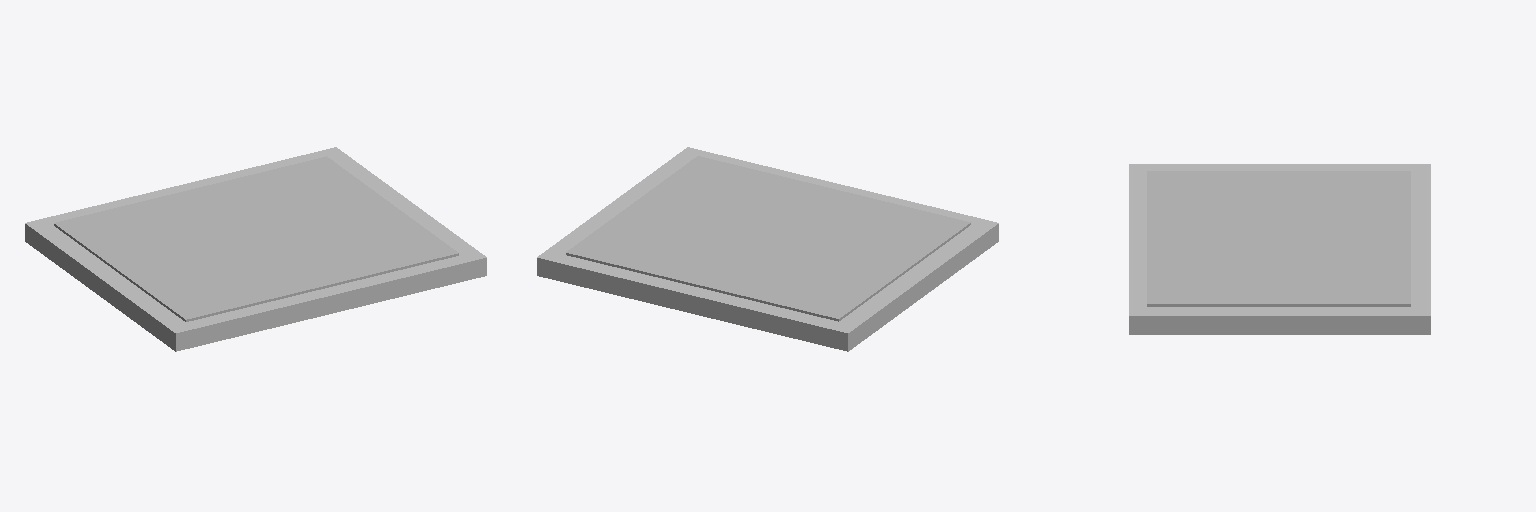
File: puerta_lab.obj
3 views of the same model, side by side, from view 1: azimuth 30°, elevation 25°; view 2: azimuth 150°, elevation 25°; view 3: azimuth 270°, elevation 25° (orthographic).
Parts seen in each view (by area): view 1: Object.1, Object.8; view 2: Object.1, Object.8; view 3: Object.1, Object.8.
Part boxes in pixels (bbox=[...]): Object.1: bbox=[54, 156, 458, 321]; Object.8: bbox=[25, 147, 486, 351]; Object.1: bbox=[566, 156, 970, 321]; Object.8: bbox=[537, 147, 998, 351]; Object.1: bbox=[1147, 171, 1410, 306]; Object.8: bbox=[1129, 164, 1430, 334].
Bounding box in the file's own units: 372 × 41.44 × 312.